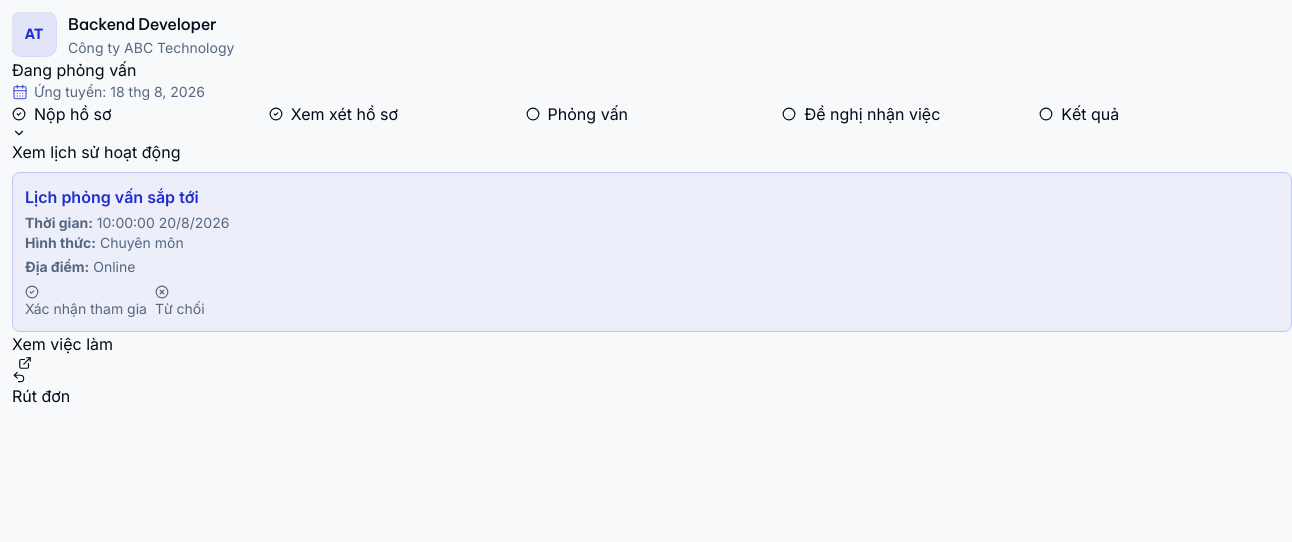
ApplicationCard › toggles the candidate activity timeline
Check: the text "Chưa có hoạt động" is not shown
Click the button "Xem lịch sử hoạt động" at (96, 145), box [12, 126, 180, 164]
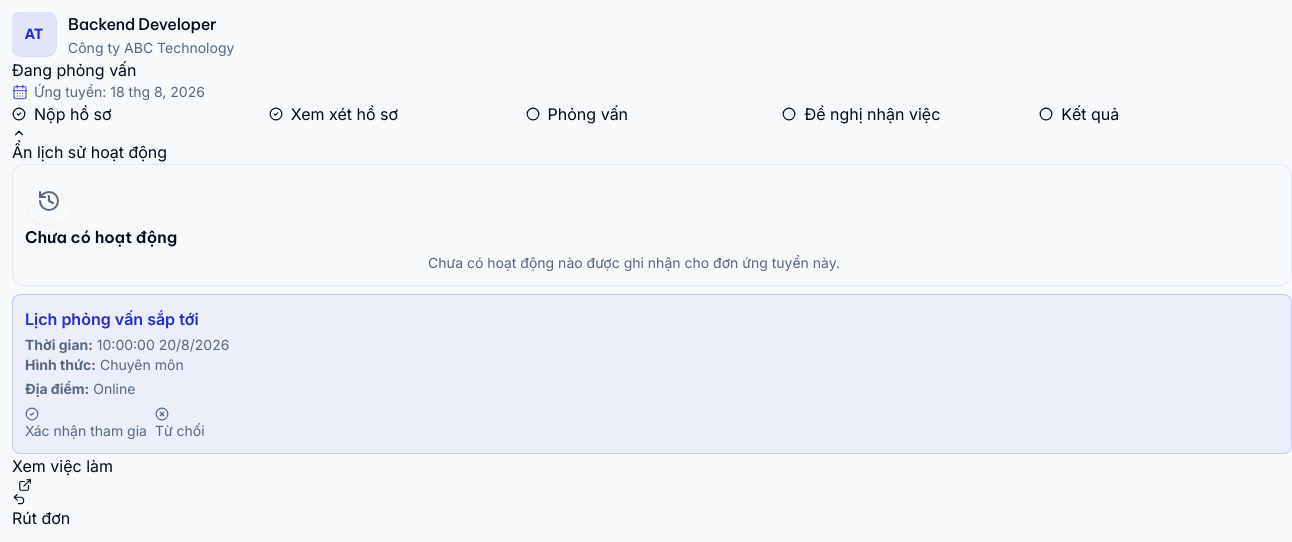
Check: the text "Chưa có hoạt động" is shown, box [25, 227, 177, 247]
Check: the button "Ẩn lịch sử hoạt động" is shown, box [12, 126, 167, 164]
